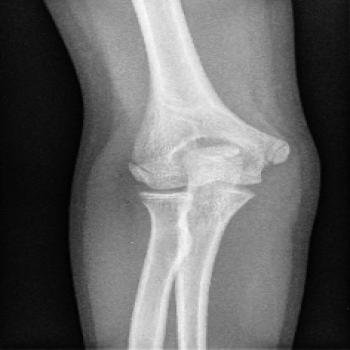Fracture: (113, 157, 174, 192)
